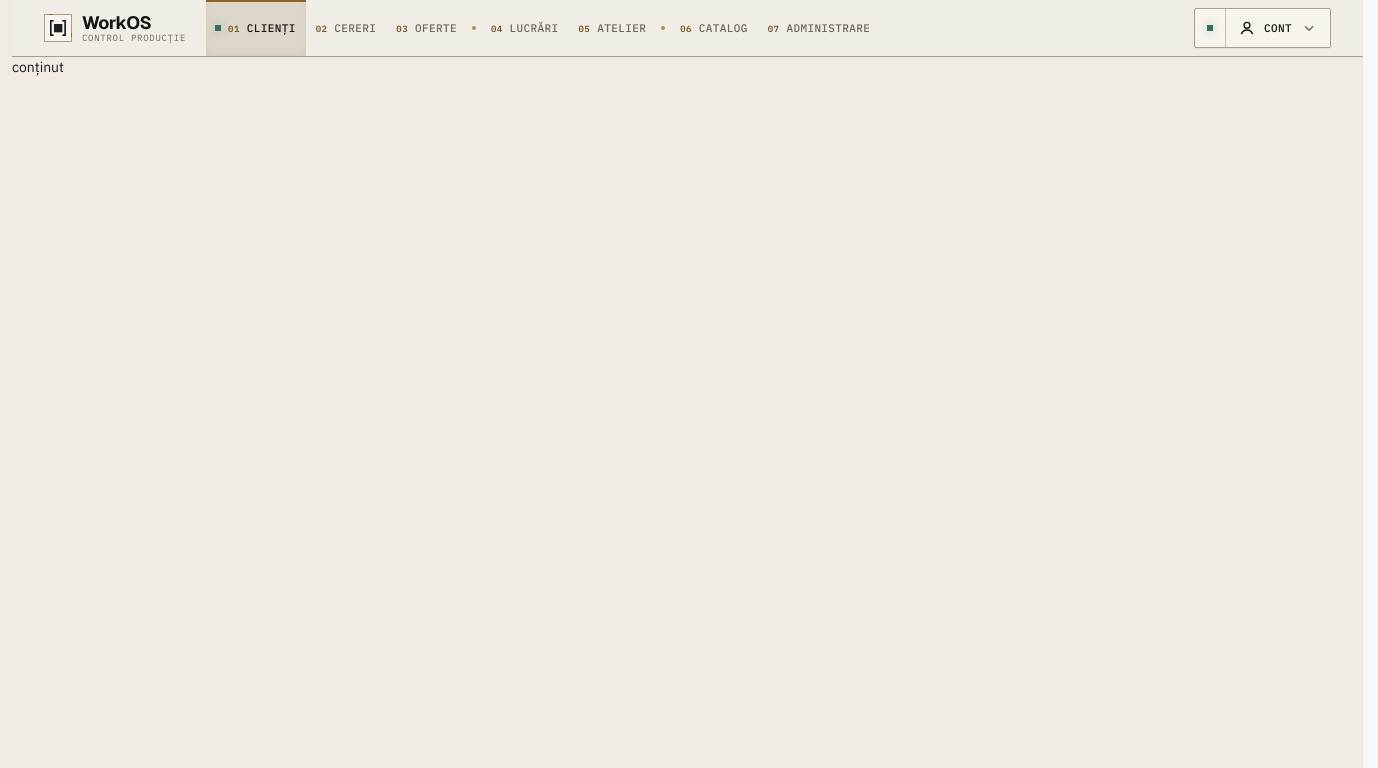
Test: AppShell › places organization, account, and aspect together
The image size is (1378, 768).
Expected: the header with class "app-shell__bar" is shown, [12,0,1363,57]
Expected: the button "Ieși din cont" is not shown
Click the button "Cont" at (1278, 28), box [1226,9,1330,47]
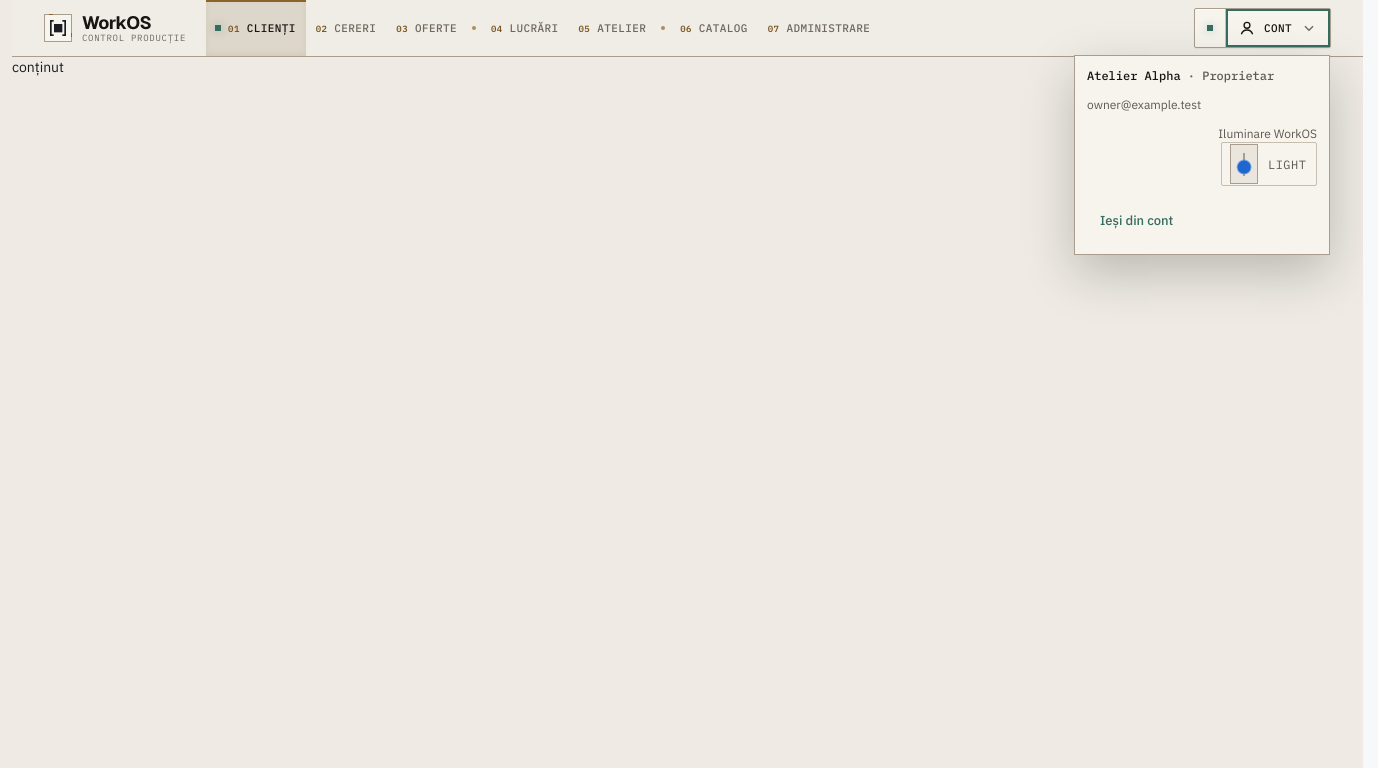
Now the text "owner@example.test" is shown, box [1087,97,1201,112]
Now the switch named "Schimbă prezentarea WorkOS" is shown, box [1221,142,1317,186]
Now the button "Ieși din cont" is shown, box [1087,198,1186,242]
